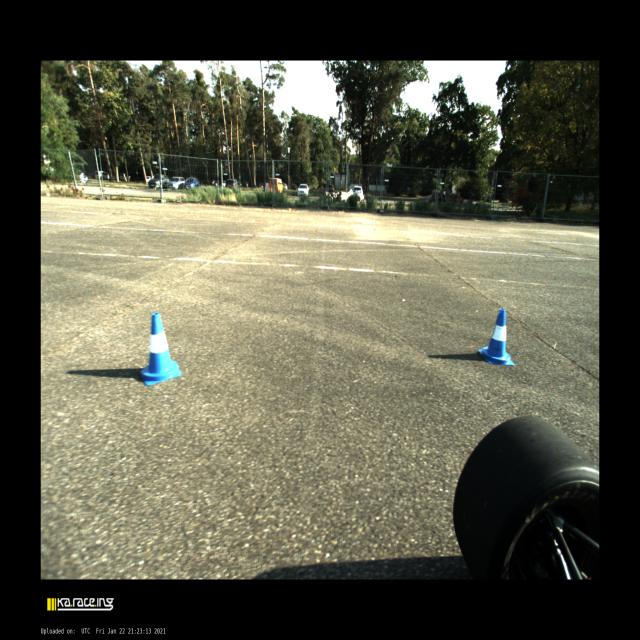blue_cone: (141, 313, 182, 385), (478, 309, 514, 365)
